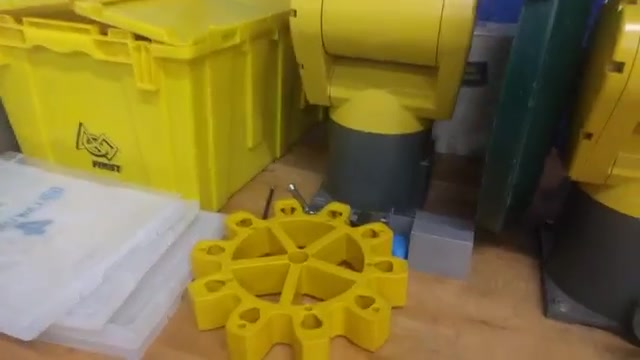gear: (187, 198, 410, 360)
